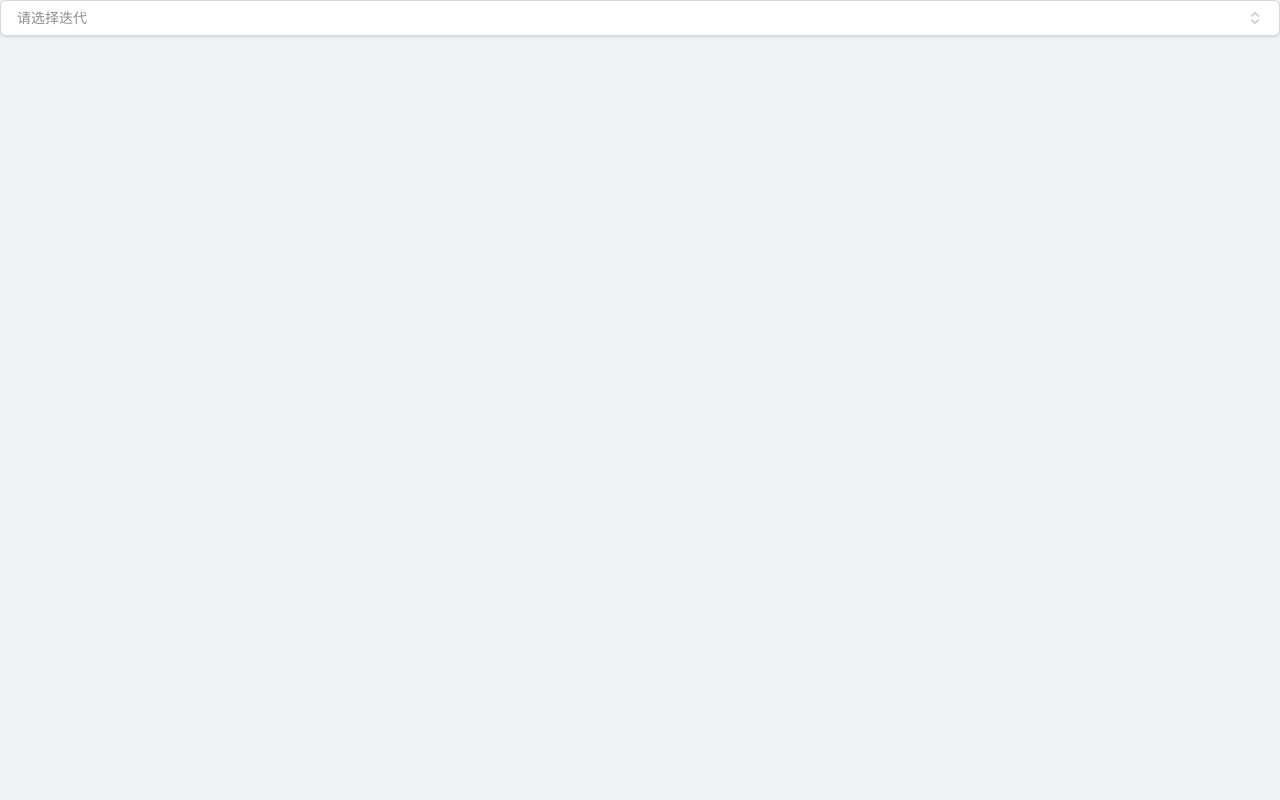
Test: SprintSelect › 默认展示当前空间迭代，勾选框存在且位于搜索框下方
Click the dropdown: click(52, 18) top-left (0, 0), bottom-right (1279, 36)
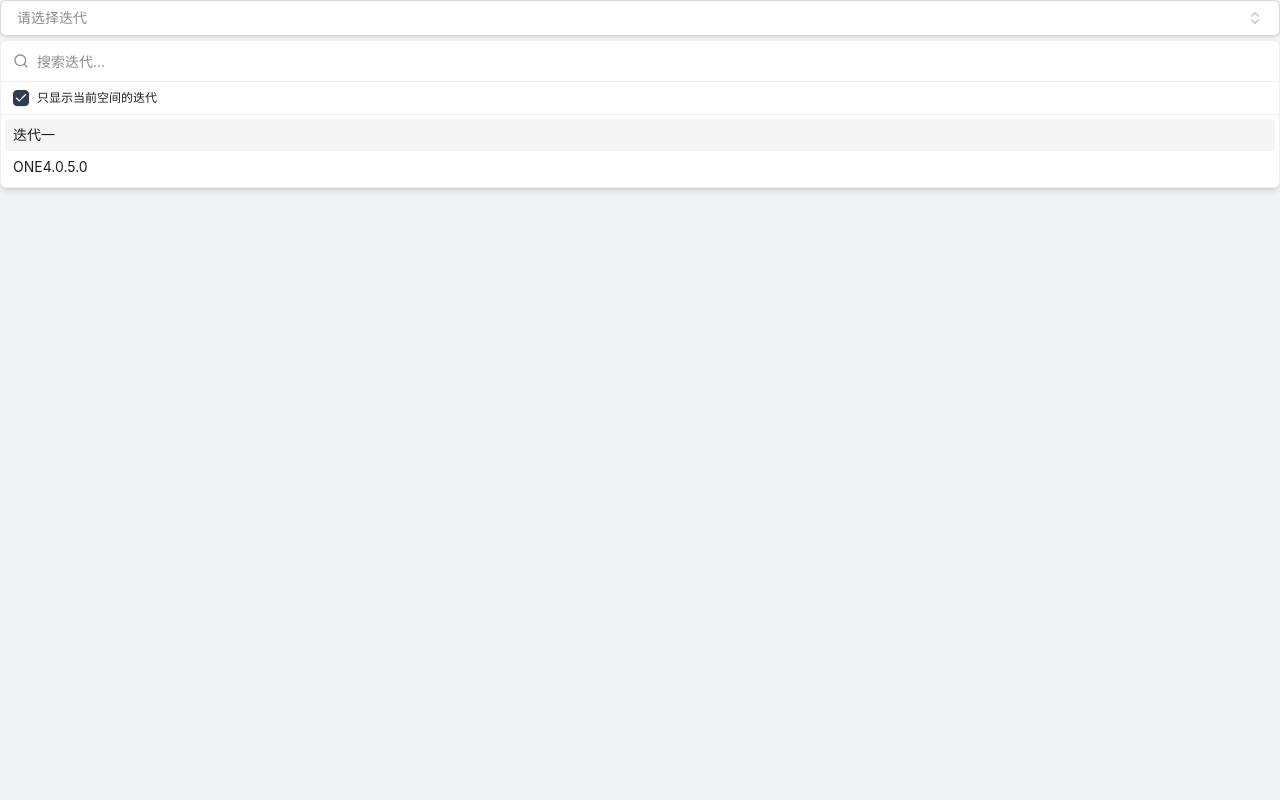
Expected: the text "只显示当前空间的迭代" is shown, top-left (37, 90), bottom-right (157, 106)
Expected: the text "迭代一" is shown, top-left (13, 126), bottom-right (55, 143)
